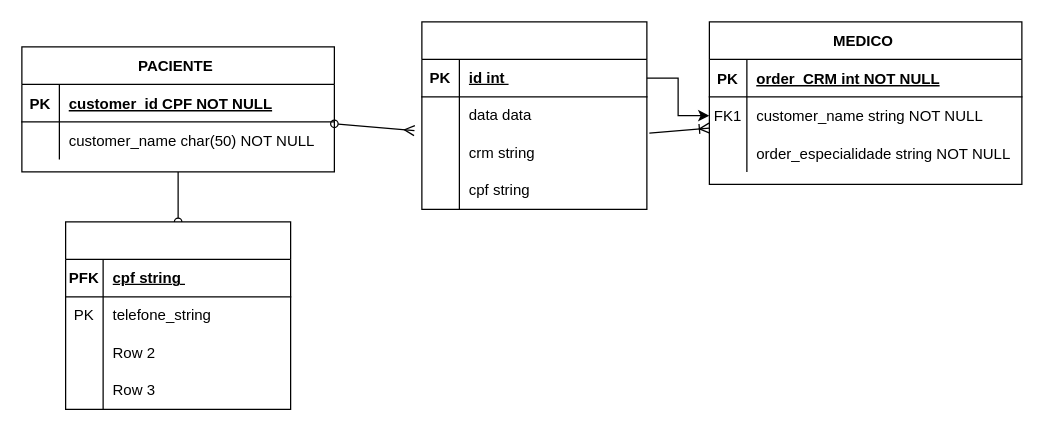
This 1044x431 diagram has some shape labels left out. The shapes that lost their labels are listed below. From the top down, each one's box as (x1, y1, x2, y2) in pixels, then its label:
(421, 21, 647, 209): consulta
(64, 221, 291, 409): paciente-telefone
